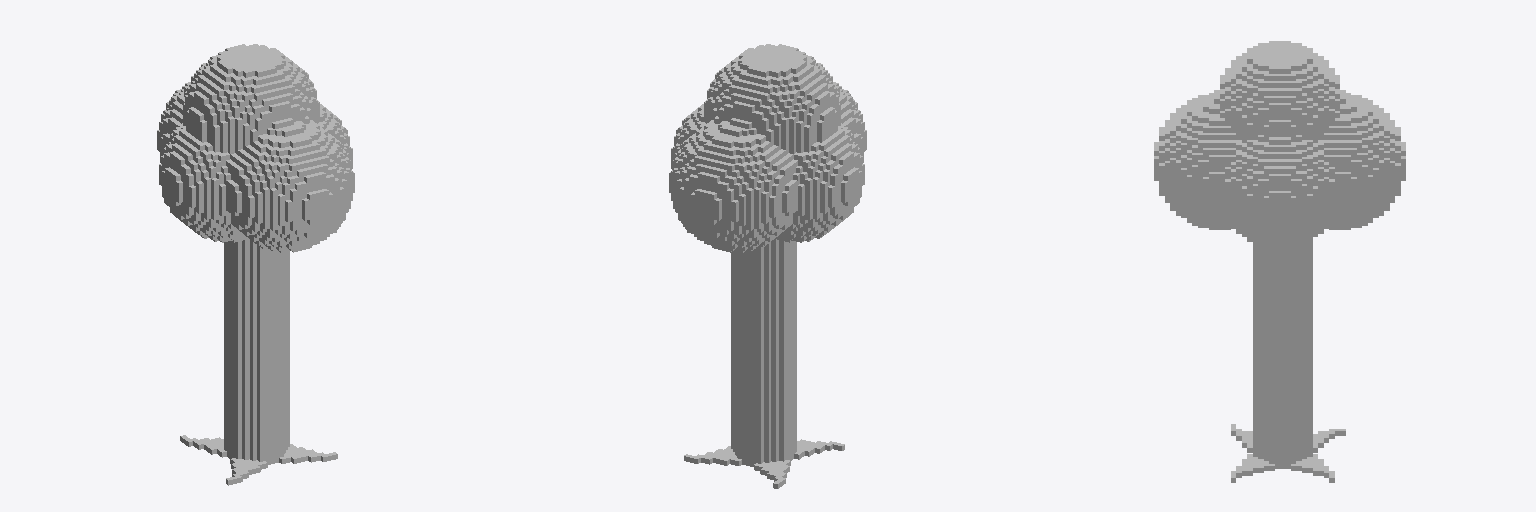
Rendered from Tree.obj.
3 views of the same model, side by side, from view 1: azimuth 30°, elevation 25°; view 2: azimuth 150°, elevation 25°; view 3: azimuth 270°, elevation 25° (orthographic).
Parts seen in each view (by area): view 1: object 1; view 2: object 1; view 3: object 1.
Part boxes in pixels (x1,y1,x2,y2): object 1: (157, 44, 354, 485); object 1: (669, 44, 866, 488); object 1: (1154, 41, 1405, 482).
Bounding box in the file's own units: 3.6 × 8 × 4.6.